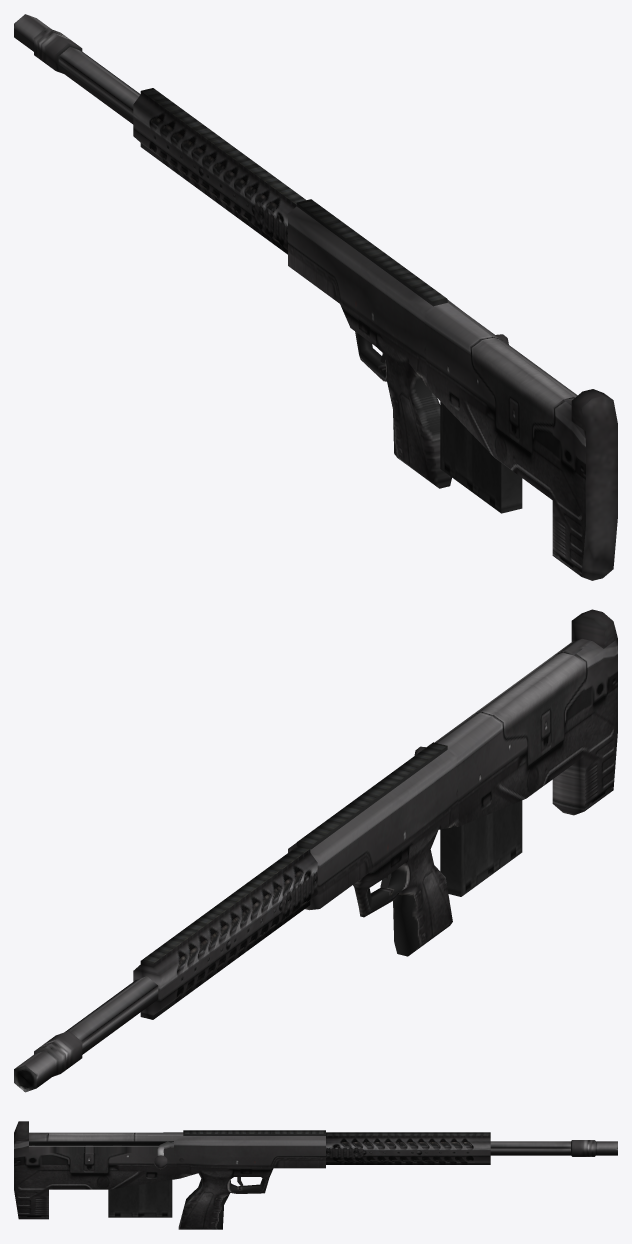
Rendered from BoltActionSniper.glb.
3 views of the same model, one above another, from view 1: azimuth 30°, elevation 25°; view 2: azimuth 150°, elevation 25°; view 3: azimuth 270°, elevation 25° (orthographic). The views are drawn at different scales.
Parts seen in each view (by area): view 1: Bolt Action Sniper, Hand Guard, Mag, Barrel; view 2: Bolt Action Sniper, Hand Guard, Mag, Barrel; view 3: Bolt Action Sniper, Hand Guard, Mag, Barrel, Bolt.
Part boxes in pixels (left/top/right/bottom): Bolt Action Sniper: left=288, top=199, right=617, bottom=580; Hand Guard: left=133, top=88, right=306, bottom=254; Mag: left=440, top=401, right=522, bottom=513; Barrel: left=14, top=14, right=140, bottom=124; Bolt Action Sniper: left=288, top=609, right=617, bottom=956; Hand Guard: left=133, top=846, right=317, bottom=1019; Mag: left=440, top=800, right=522, bottom=896; Barrel: left=14, top=976, right=158, bottom=1092; Bolt Action Sniper: left=14, top=1121, right=325, bottom=1229; Hand Guard: left=326, top=1132, right=490, bottom=1164; Mag: left=108, top=1180, right=172, bottom=1217; Barrel: left=490, top=1140, right=617, bottom=1156; Bolt: left=154, top=1141, right=173, bottom=1169.
Size of the model in its own units: 0.302 by 0.9222 by 4.78.
1 material, 1 textured.
